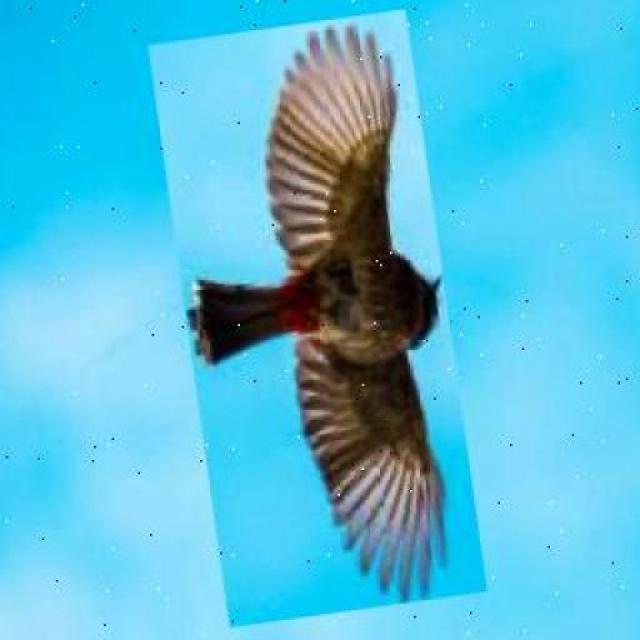airplane: (149, 9, 489, 628)
